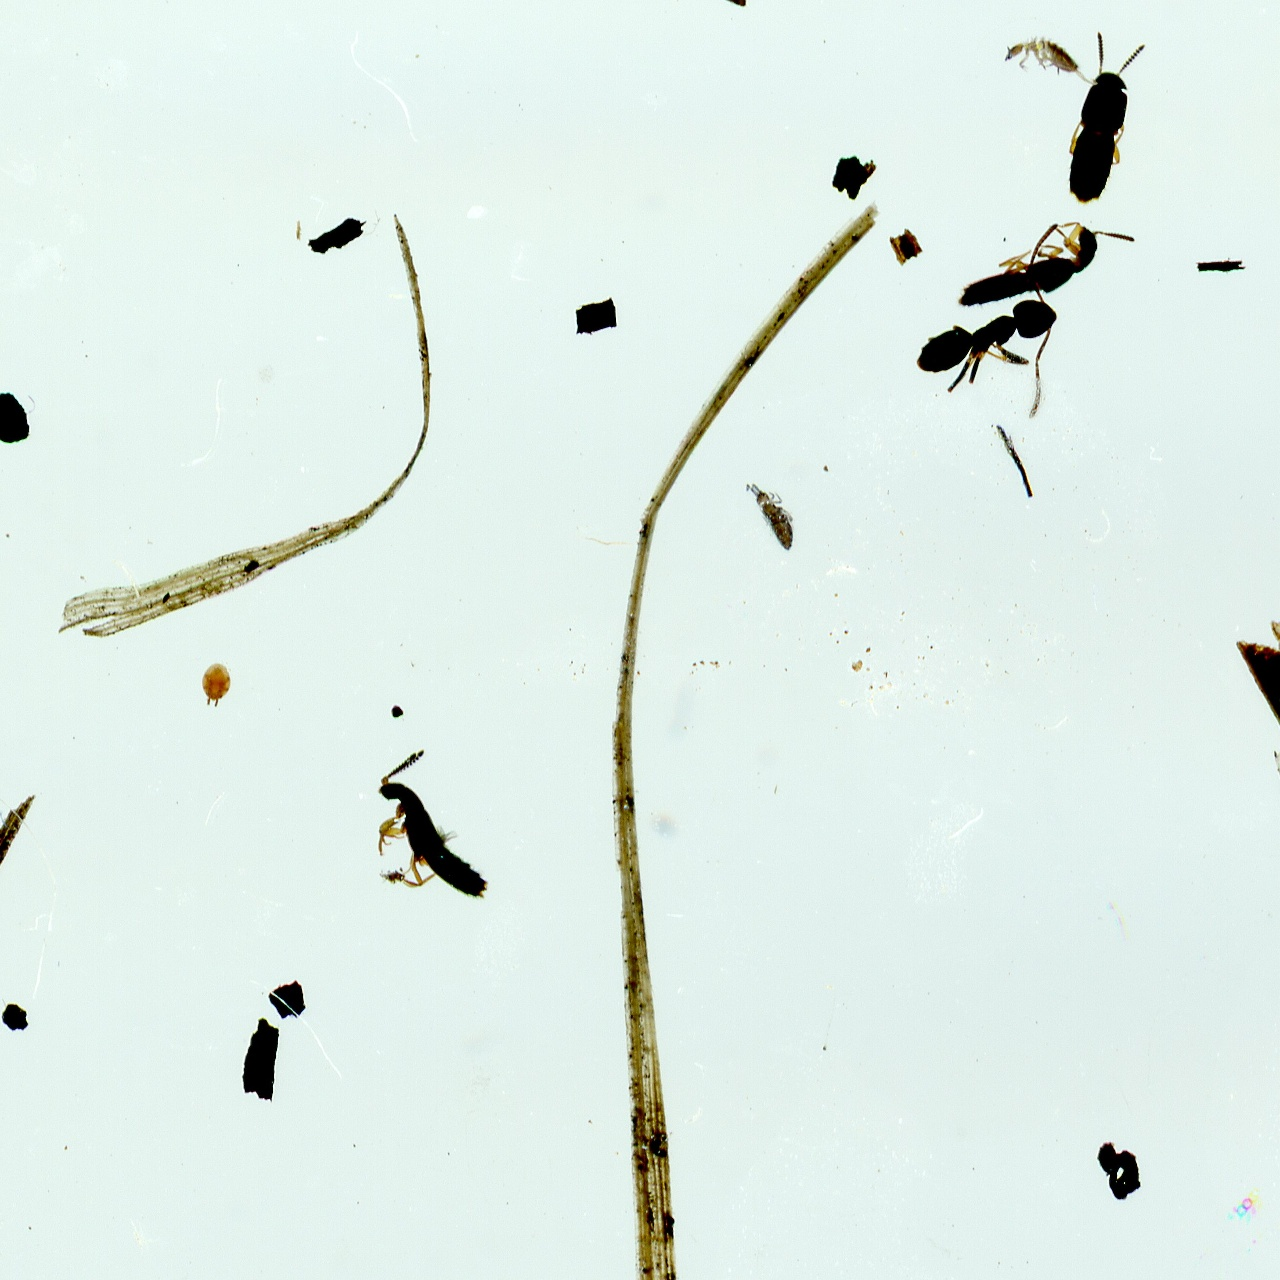arthropod: (896, 217, 1090, 437), (335, 732, 507, 937), (941, 200, 1147, 315), (1054, 24, 1153, 217), (996, 34, 1101, 89), (737, 479, 803, 557), (199, 662, 233, 709), (695, 0, 753, 11)
